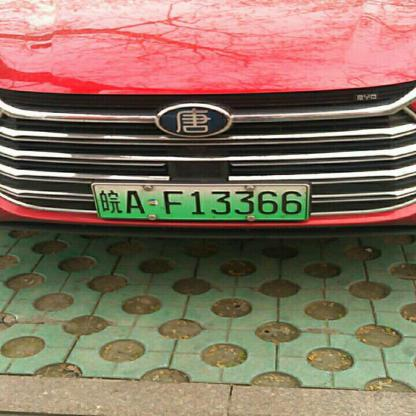lp: (93, 185, 309, 218)
